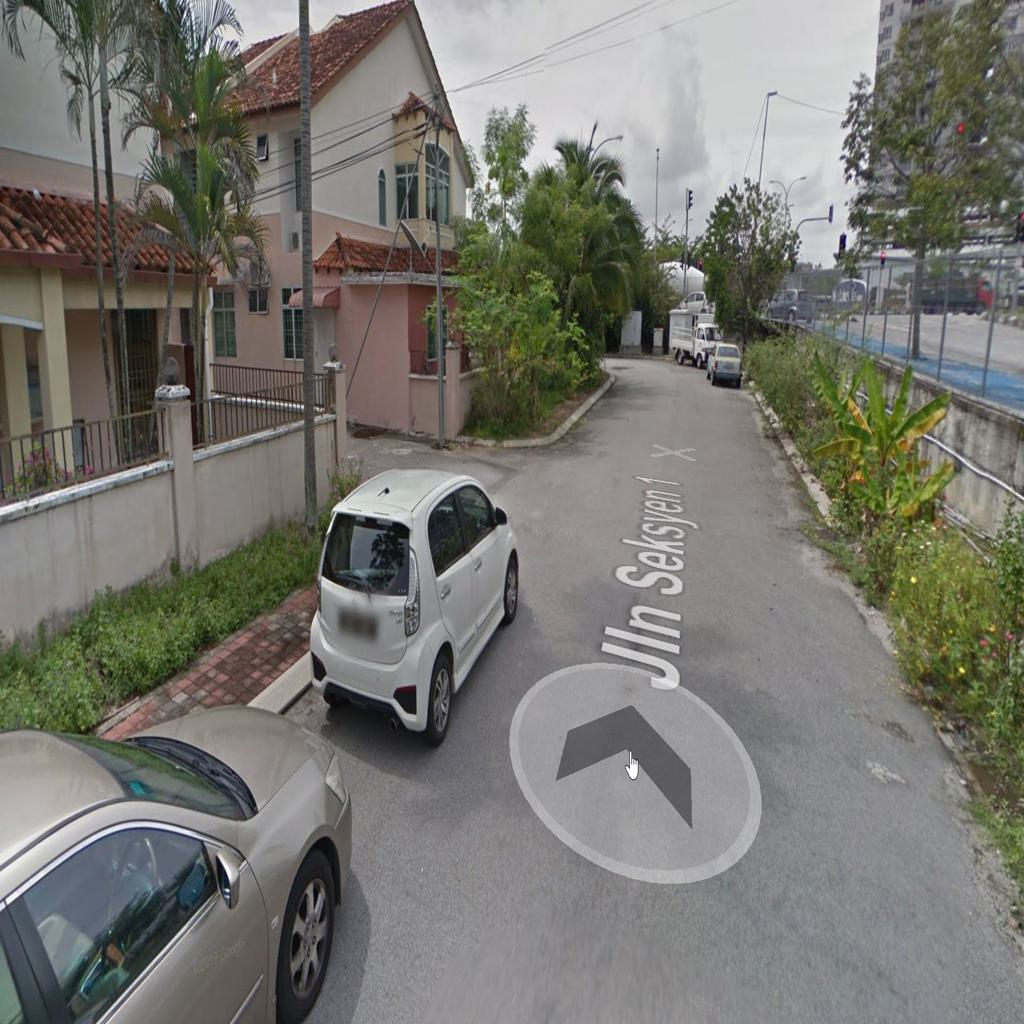Junction: (339, 417, 567, 531)
